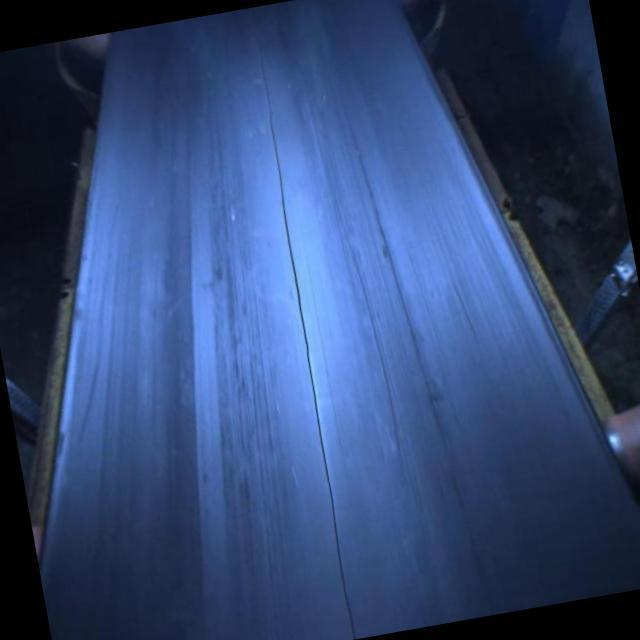Tear: (243, 14, 364, 640)
